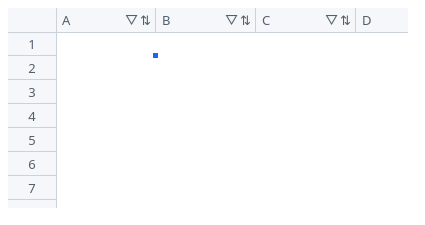
Test: LatticaGrid rich editors (Phase A) › renders a dropdown <select> and commits on change
This screenshot has width=425, height=225.
Double-click the table with test id "lattica-grid" at coordinates (208, 108), box [8,8,408,208]
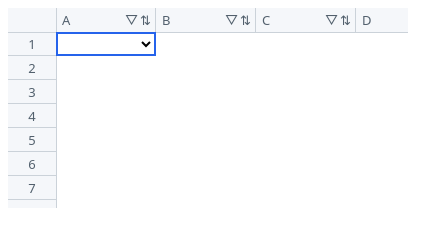
Select "Osaka" in the dropdown with test id "lattica-editor-select" at coordinates (106, 44), box [56,32,156,56]
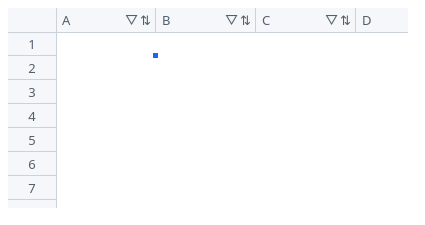
Expected: the dropdown with test id "lattica-editor-select" is gone
